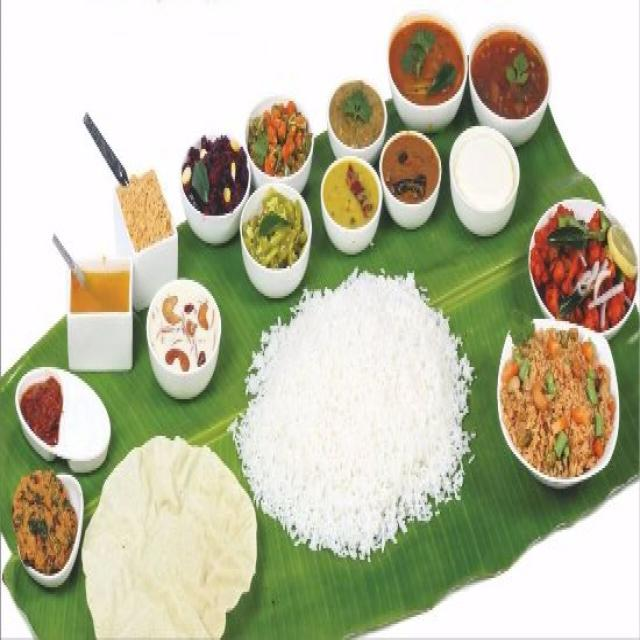veg meals: (3, 2, 640, 640)
